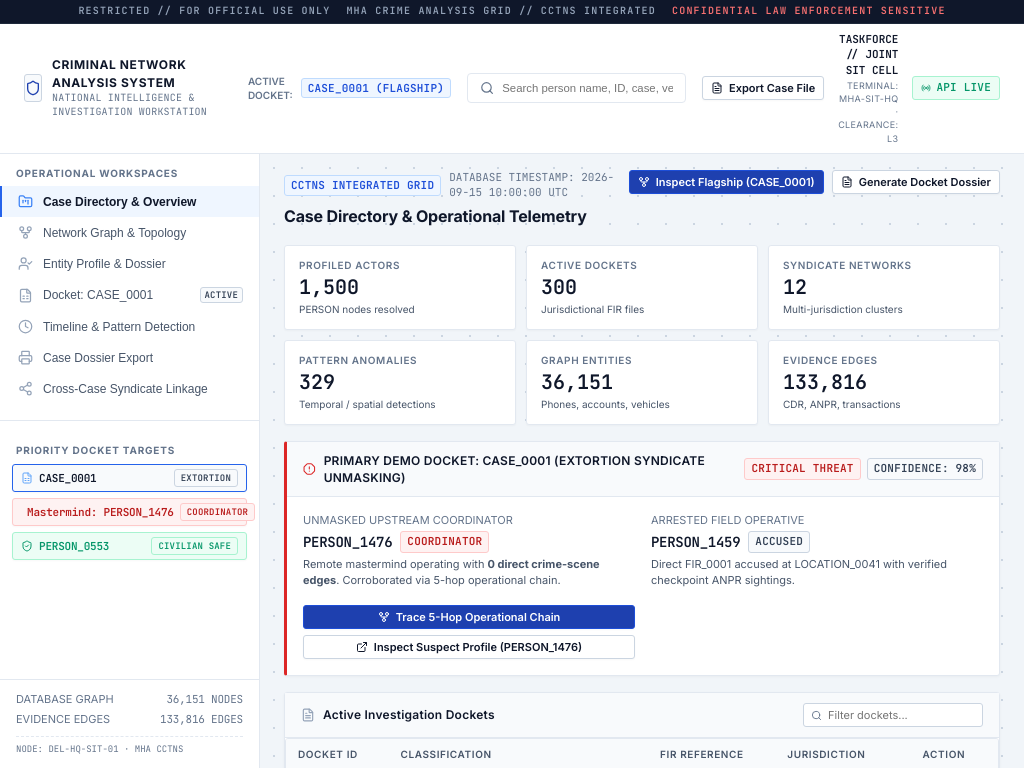
Scenario: SIH26189 Tactical Workstation Frontend Test Suite › navigates to Case Dossier Export view with print readiness
// Navigate to Dossier export tab
Step 1. Click the button with test id "nav-dossier" → (130, 358), box [0,342,259,373]
(page scrolled)
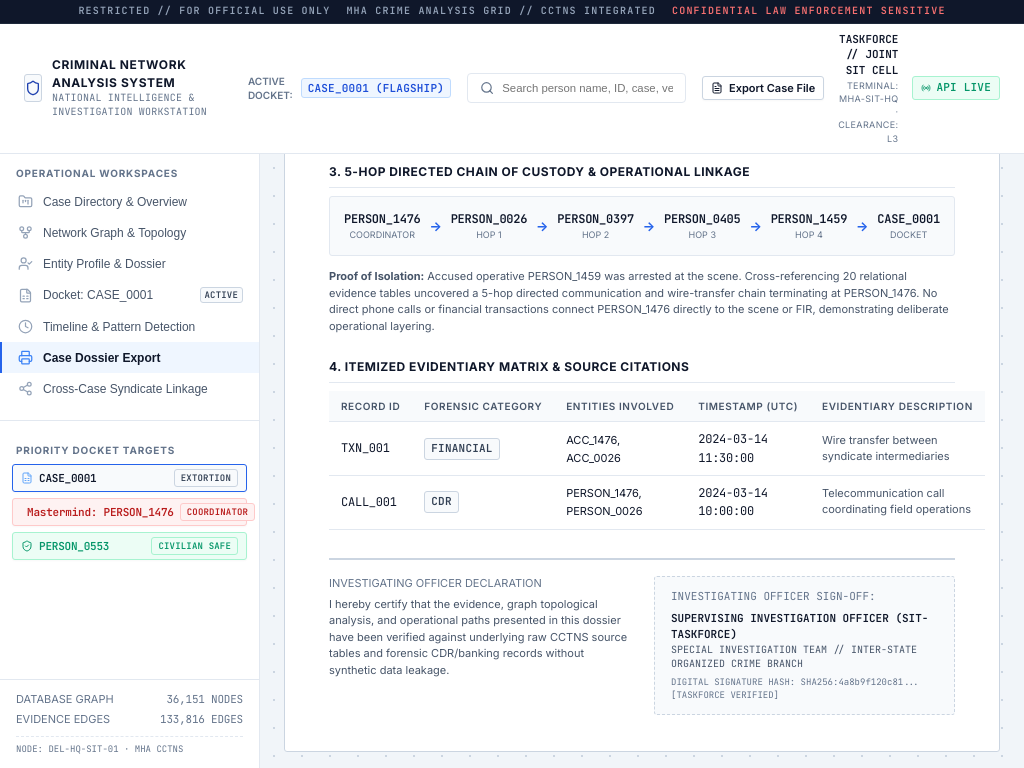
Now the text "SUPERVISING INVESTIGATION OFFICER (SIT-TASKFORCE)" is shown, box [671,611,938,643]
